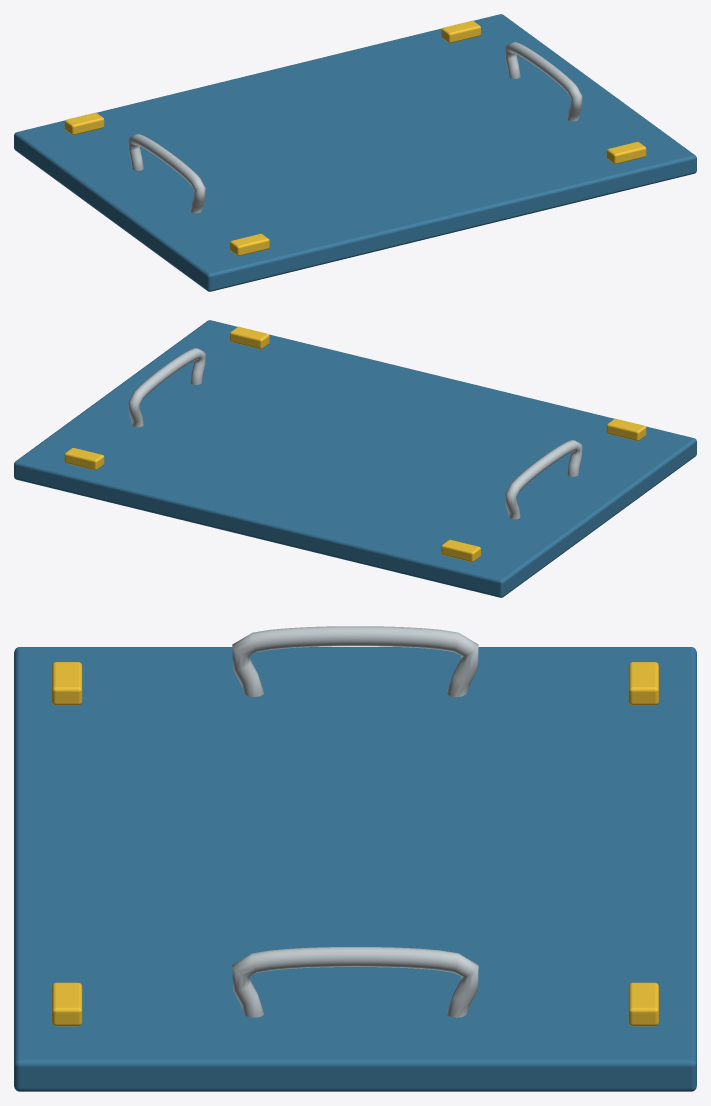
File: recycling-centre-and-material-sorting-shredder-service-aee41921__31124.glb
3 views of the same model, one above another, from view 1: azimuth 30°, elevation 25°; view 2: azimuth 150°, elevation 25°; view 3: azimuth 270°, elevation 25° (orthographic). The views are drawn at different scales.
Visible parts, largest first — view 1: shredder-service-lid; view 2: shredder-service-lid; view 3: shredder-service-lid.
Boxes of the visible parts, <box> form: shredder-service-lid: <box>14,14,696,291</box>; shredder-service-lid: <box>14,320,696,597</box>; shredder-service-lid: <box>14,626,696,1091</box>.
Size of the model in its own units: 1.95 by 0.2127 by 1.35.
